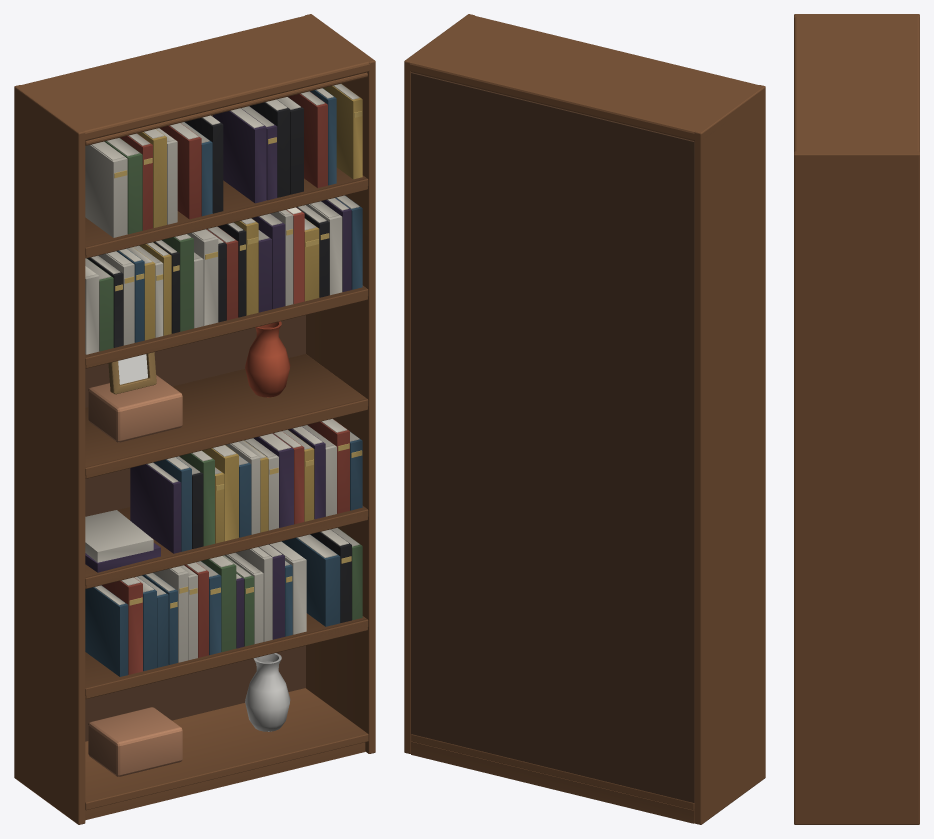
Rendered from bookcaseTall.glb.
The picture shows the model from 3 angles, left to right: view 1: azimuth 30°, elevation 25°; view 2: azimuth 150°, elevation 25°; view 3: azimuth 270°, elevation 25°; orthographic projection. The views are drawn at different scales.
Visible parts, largest first — view 1: bookcaseTall, book; view 2: bookcaseTall; view 3: bookcaseTall.
Boxes of the visible parts, <box> form: bookcaseTall: <box>14,14,375,824</box>; book: <box>286,207,304,303</box>; bookcaseTall: <box>404,14,765,824</box>; bookcaseTall: <box>794,14,919,824</box>.
Bounding box in the file's own units: 0.9 × 2 × 0.34.
